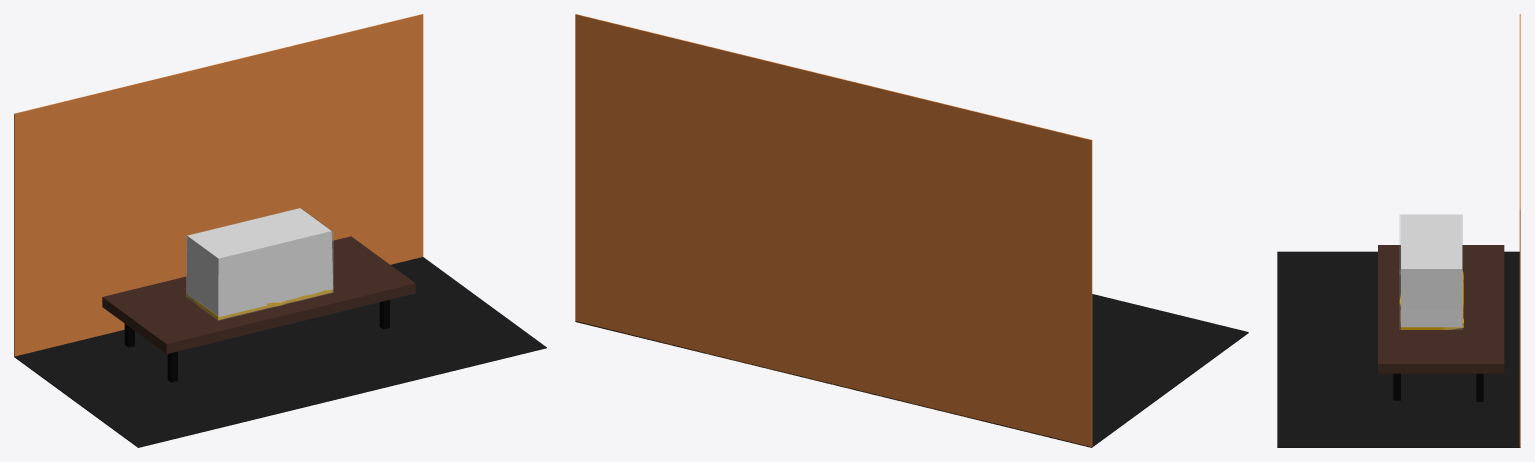
File: aqua_start.fbx
The picture shows the model from 3 angles, left to right: view 1: azimuth 30°, elevation 25°; view 2: azimuth 150°, elevation 25°; view 3: azimuth 270°, elevation 25°; orthographic projection. The views are drawn at different scales.
Visible parts, largest first — view 1: fondus.001, fondus, container, Cube, fish_stank, arena; view 2: fondus.001, fondus; view 3: fondus, Cube, container, fish_stank, fondus.001, arena.
Boxes of the visible parts, left/top/right/bottom form: fondus.001: left=14, top=14, right=423, bottom=356; fondus: left=14, top=257, right=546, bottom=447; container: left=187, top=208, right=333, bottom=317; Cube: left=102, top=236, right=415, bottom=353; fish_stank: left=186, top=208, right=333, bottom=320; arena: left=186, top=289, right=332, bottom=320; fondus.001: left=575, top=14, right=1092, bottom=447; fondus: left=575, top=294, right=1248, bottom=447; fondus: left=1277, top=251, right=1520, bottom=447; Cube: left=1378, top=245, right=1504, bottom=373; container: left=1401, top=215, right=1462, bottom=327; fish_stank: left=1399, top=214, right=1462, bottom=329; fondus.001: left=1519, top=14, right=1520, bottom=447; arena: left=1399, top=271, right=1463, bottom=329.
Bounding box in the file's own units: 5671 × 3285 × 2985.
